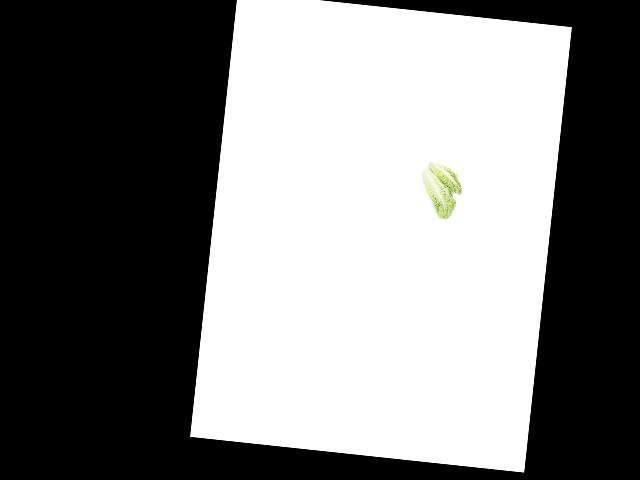lettuce: (415, 171, 460, 220)
